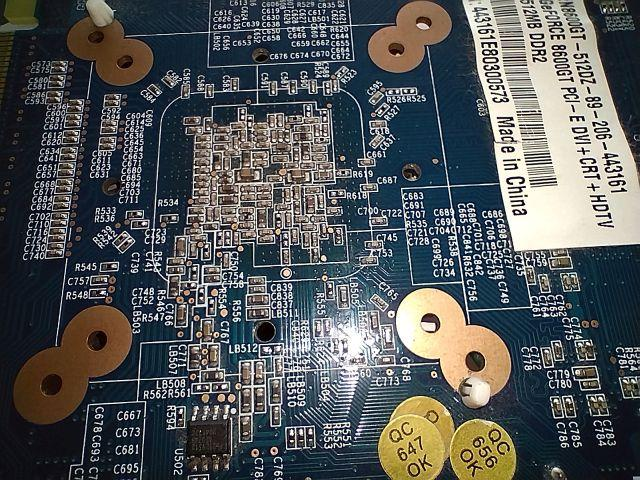capacitor: (37, 245, 69, 264)
resistor: (82, 286, 116, 305), (304, 422, 322, 450), (282, 424, 298, 454), (174, 402, 186, 431)
